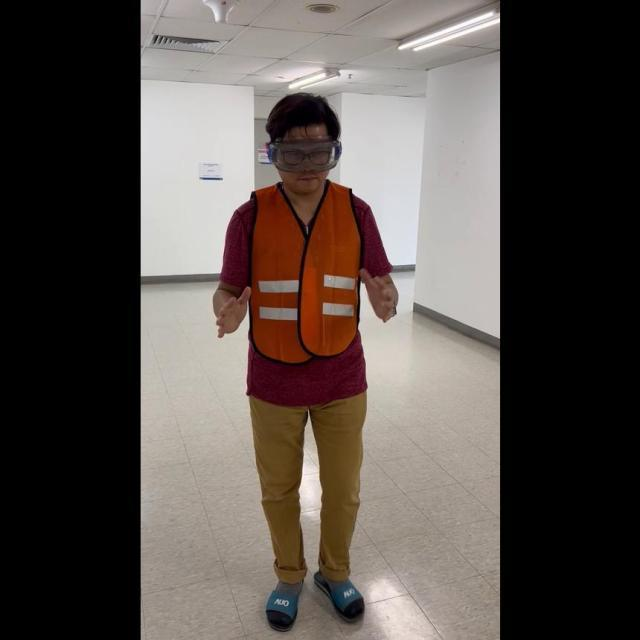bare_hand: (356, 259, 400, 323), (211, 281, 251, 339)
